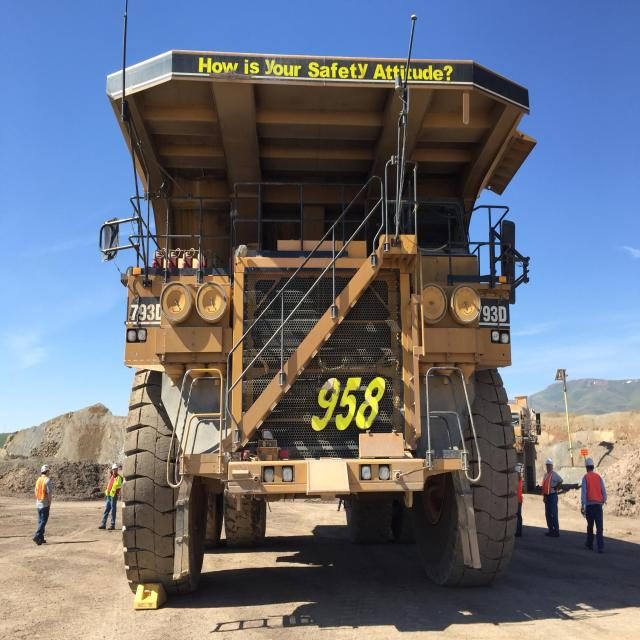dump_truck: (101, 36, 532, 596)
